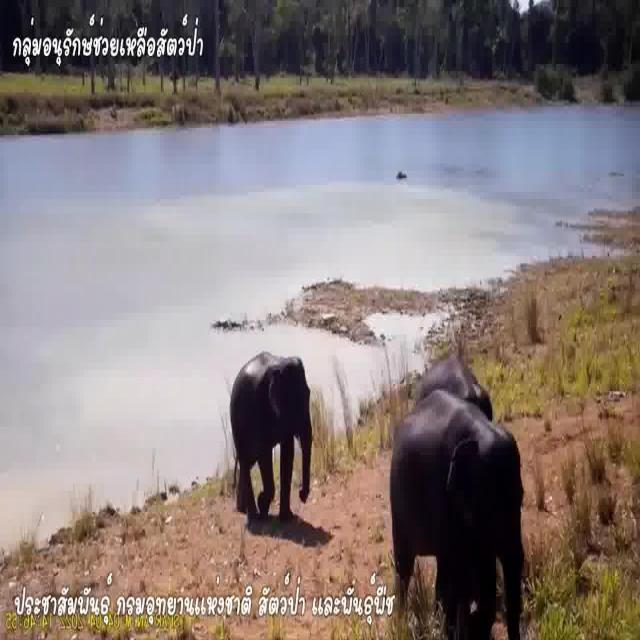Elephant: (396, 391, 522, 624), (224, 338, 322, 510), (414, 350, 492, 420)
